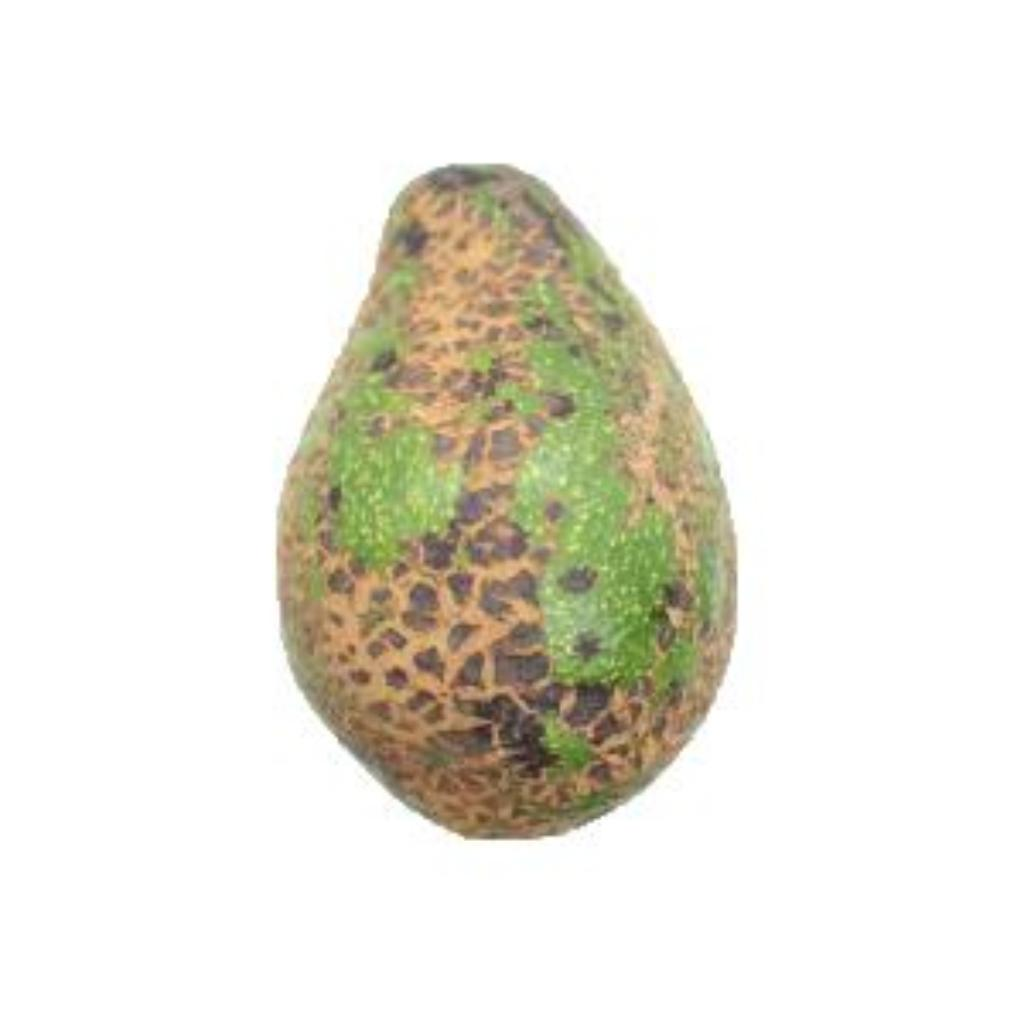cercospora_spot: (272, 156, 752, 844)
